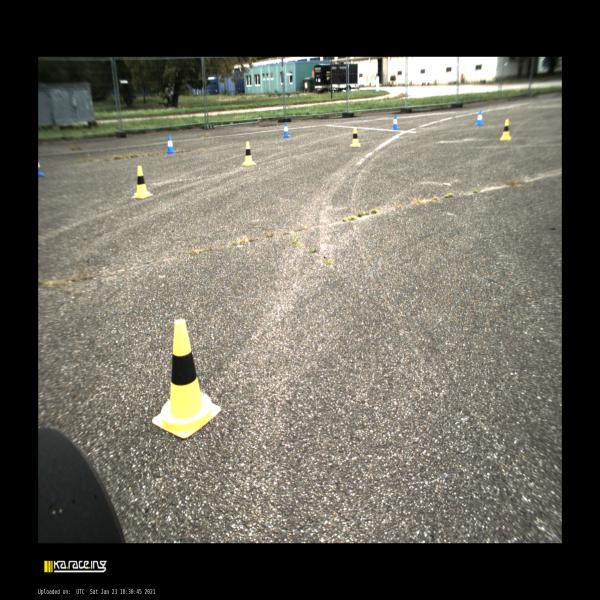blue_cone: (166, 135, 176, 154), (38, 160, 46, 178), (282, 121, 290, 138), (476, 110, 484, 126), (391, 114, 399, 129)
yellow_cone: (152, 320, 221, 438), (132, 166, 153, 198), (241, 141, 256, 166), (500, 119, 511, 140), (351, 127, 360, 147)
